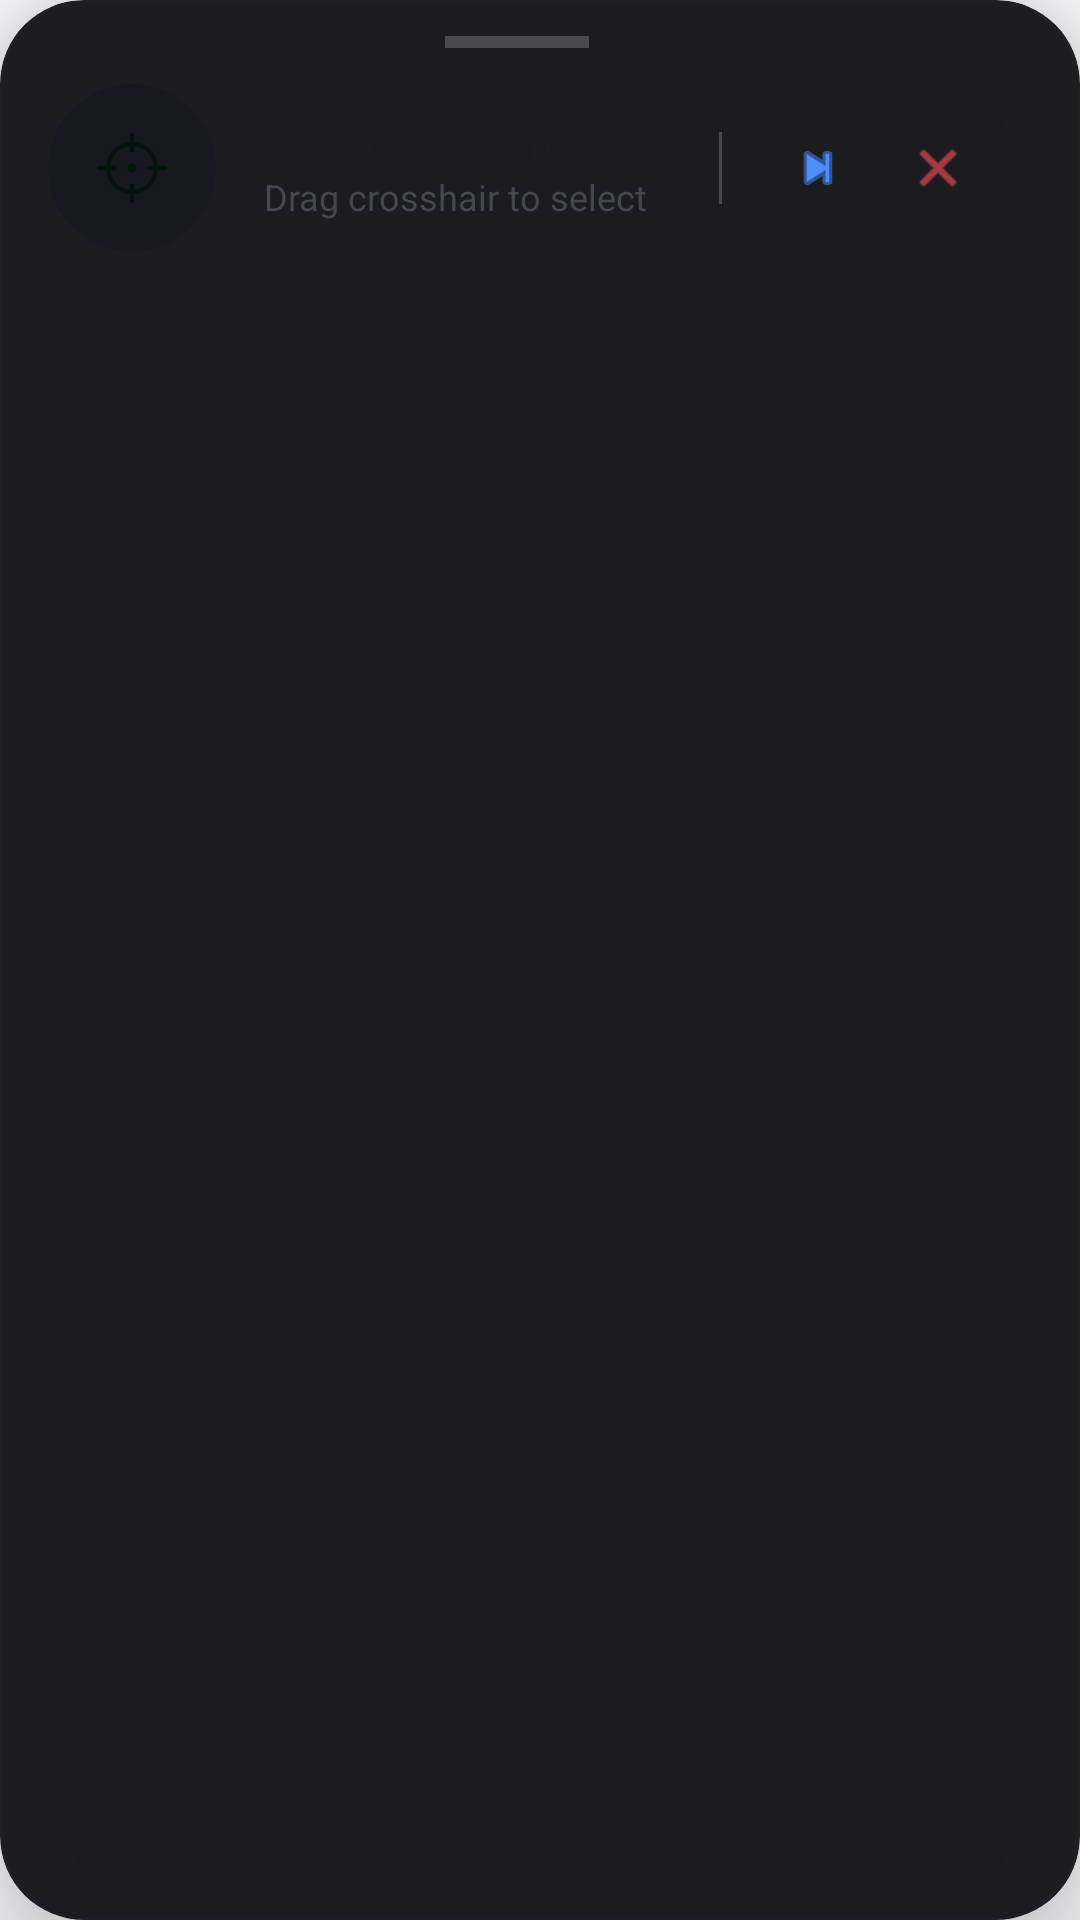

Icon click points for this 1080x1920 phone screenshot, format (x,y):
close clear cancel: (938,168)
next: (818,168)
target crosshair: (132,168)
